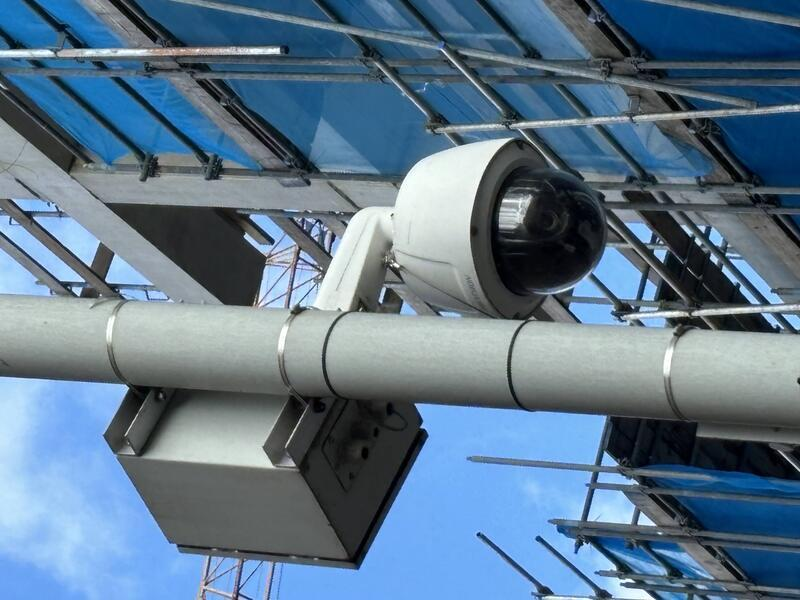dome: (282, 394, 469, 600)
